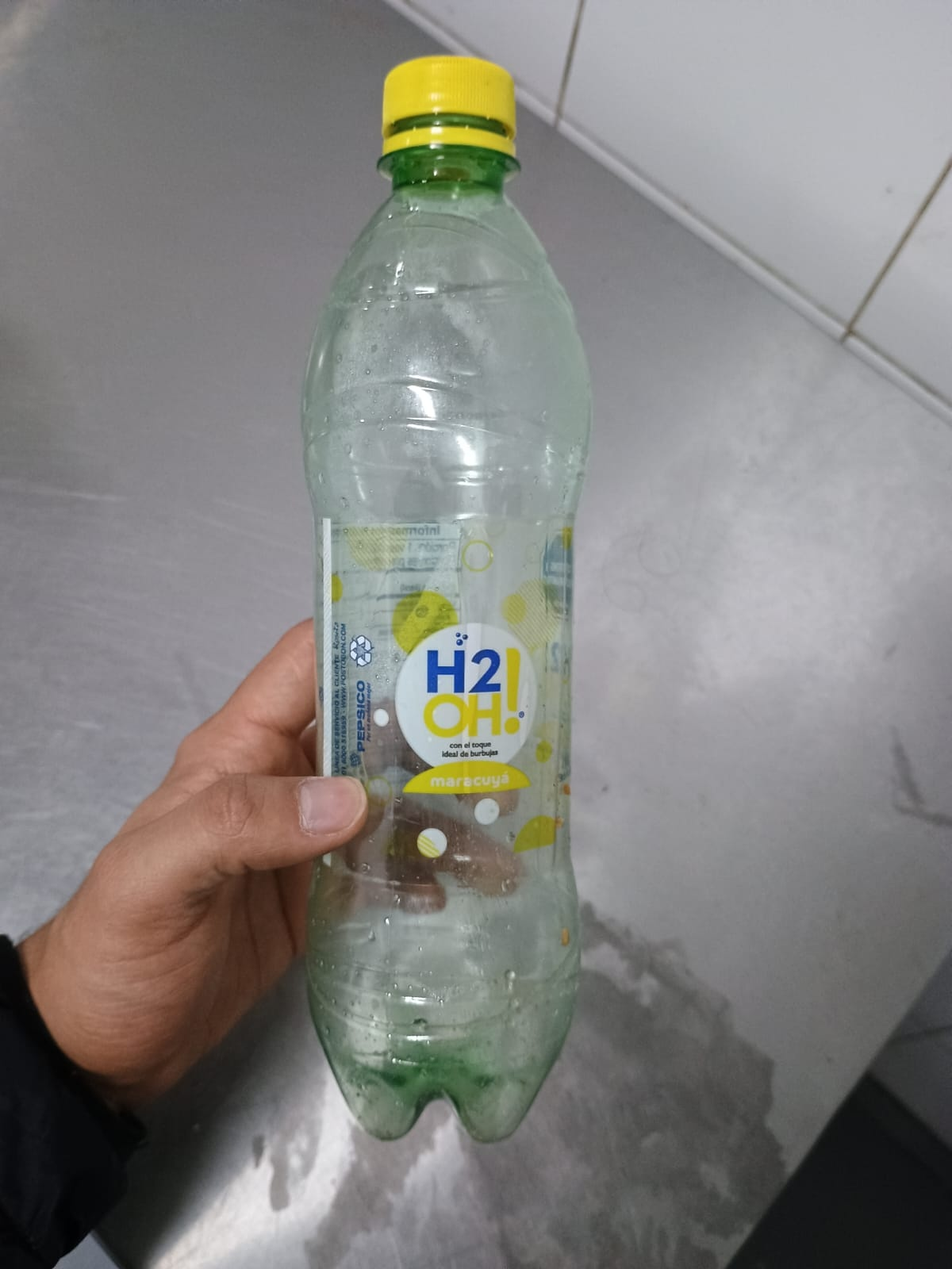Plastico: (299, 57, 597, 1143)
